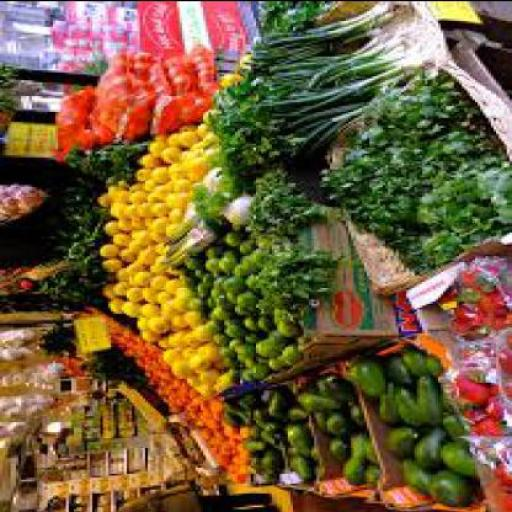biodegradable: (248, 2, 409, 66), (256, 31, 412, 93), (274, 81, 415, 148), (351, 74, 467, 148), (266, 64, 410, 118), (411, 162, 510, 233), (316, 142, 420, 204), (254, 242, 332, 318), (212, 132, 293, 198), (245, 168, 317, 239), (214, 128, 278, 198), (345, 196, 412, 247), (203, 81, 259, 142), (425, 132, 496, 178), (46, 184, 92, 253), (254, 2, 337, 36), (398, 232, 465, 274), (66, 147, 137, 182), (68, 208, 103, 277), (164, 223, 210, 269), (34, 271, 88, 310), (0, 183, 46, 228), (344, 356, 386, 400), (426, 470, 474, 508), (216, 427, 246, 483), (161, 204, 203, 243), (34, 320, 72, 362), (409, 428, 444, 473), (153, 372, 190, 414), (448, 374, 490, 409), (87, 350, 132, 382), (438, 442, 475, 480), (414, 377, 439, 429), (108, 334, 146, 368), (185, 184, 219, 221), (214, 196, 254, 224), (296, 390, 338, 416), (383, 427, 417, 459), (398, 460, 428, 496), (383, 358, 415, 390), (390, 389, 415, 427), (282, 423, 309, 458), (195, 170, 225, 199), (348, 432, 372, 468), (142, 346, 164, 385), (459, 267, 491, 293), (0, 408, 50, 424), (337, 455, 362, 487), (398, 352, 428, 378), (311, 372, 341, 398), (206, 402, 222, 450), (0, 328, 37, 348), (432, 284, 460, 310), (480, 308, 510, 332), (266, 390, 290, 419), (0, 398, 53, 411), (222, 400, 248, 426), (192, 401, 208, 443), (372, 393, 394, 423), (287, 456, 312, 482), (470, 421, 506, 439), (327, 438, 351, 464), (324, 417, 354, 437), (0, 366, 27, 388), (478, 290, 504, 312), (459, 406, 489, 425), (449, 315, 478, 334), (250, 340, 280, 358), (258, 451, 277, 478), (449, 299, 478, 316), (129, 231, 153, 251), (238, 54, 256, 80), (494, 348, 510, 377), (216, 275, 243, 292), (491, 466, 510, 490), (155, 146, 180, 164), (0, 348, 32, 362), (440, 413, 456, 441), (132, 247, 154, 267), (0, 424, 27, 440), (188, 158, 206, 182), (422, 358, 441, 380), (190, 344, 214, 361), (216, 73, 241, 89), (140, 217, 160, 237), (280, 346, 301, 365), (481, 400, 499, 422), (169, 292, 187, 314), (214, 259, 238, 275), (229, 292, 253, 308), (185, 358, 209, 374), (95, 259, 119, 275), (95, 243, 119, 259), (145, 140, 164, 160), (192, 368, 214, 385), (211, 374, 230, 393), (180, 312, 200, 330), (169, 362, 190, 379), (282, 408, 304, 424), (258, 432, 280, 448), (200, 245, 222, 261), (216, 233, 241, 247), (263, 334, 288, 348), (145, 319, 164, 336), (108, 283, 127, 300), (246, 364, 266, 380), (206, 277, 222, 297), (166, 316, 182, 336), (161, 281, 185, 294), (274, 324, 296, 338), (208, 308, 230, 322), (124, 192, 146, 206), (148, 186, 166, 203), (182, 296, 201, 312), (129, 272, 148, 288), (250, 421, 280, 431), (232, 425, 257, 437), (182, 393, 192, 423), (264, 358, 285, 372), (158, 352, 179, 366), (201, 320, 219, 336), (137, 152, 153, 170), (135, 288, 153, 304), (148, 274, 166, 290), (98, 222, 116, 238), (134, 305, 156, 318), (172, 132, 192, 146), (219, 328, 238, 342), (227, 344, 246, 358), (196, 111, 216, 124), (250, 405, 266, 421), (232, 460, 248, 476), (235, 240, 251, 256), (176, 274, 192, 290), (192, 124, 208, 140), (192, 328, 208, 344), (119, 302, 135, 318), (156, 290, 172, 306), (116, 247, 132, 263), (108, 204, 124, 220), (180, 334, 198, 348), (235, 398, 254, 411), (243, 439, 262, 452), (246, 457, 259, 476), (227, 473, 246, 486), (145, 206, 164, 219), (96, 196, 116, 208), (269, 313, 287, 326), (103, 301, 121, 314), (137, 332, 156, 344), (166, 180, 185, 192), (256, 316, 272, 330), (150, 168, 166, 182), (102, 186, 124, 196), (240, 277, 256, 290), (211, 293, 227, 306), (195, 386, 211, 399), (98, 287, 114, 300), (124, 289, 140, 302), (108, 269, 124, 282), (129, 261, 145, 274), (129, 207, 145, 220), (312, 416, 324, 432), (365, 468, 377, 484), (159, 302, 171, 318), (111, 235, 127, 247), (182, 261, 201, 271), (225, 222, 243, 232), (172, 164, 182, 182), (193, 284, 206, 297), (119, 220, 132, 233), (241, 368, 253, 382), (241, 318, 253, 332), (499, 384, 509, 400), (208, 336, 224, 346), (179, 124, 195, 134), (168, 194, 184, 204), (135, 321, 147, 334), (130, 219, 142, 231), (216, 348, 226, 360), (225, 360, 237, 370), (204, 294, 211, 310), (161, 136, 171, 146), (230, 309, 243, 316), (220, 251, 232, 257), (126, 184, 136, 191), (193, 271, 201, 279), (288, 451, 293, 459)
cardboard: (296, 219, 417, 374), (179, 2, 241, 61), (135, 2, 179, 57)
